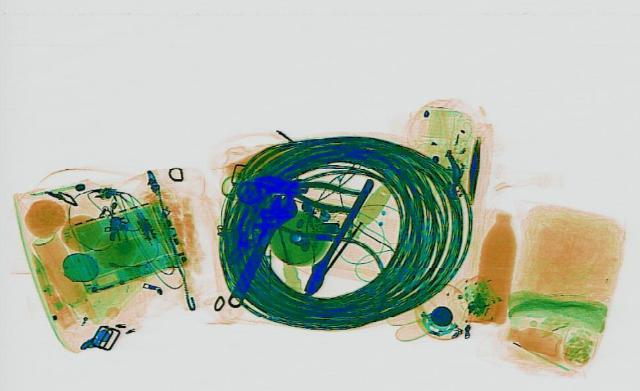Wrench: (212, 191, 304, 310), (296, 177, 382, 294)
